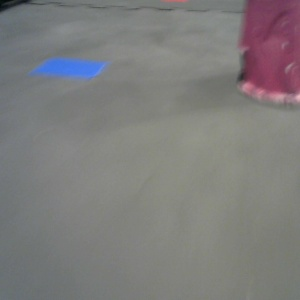middle: (58, 1, 125, 61)
